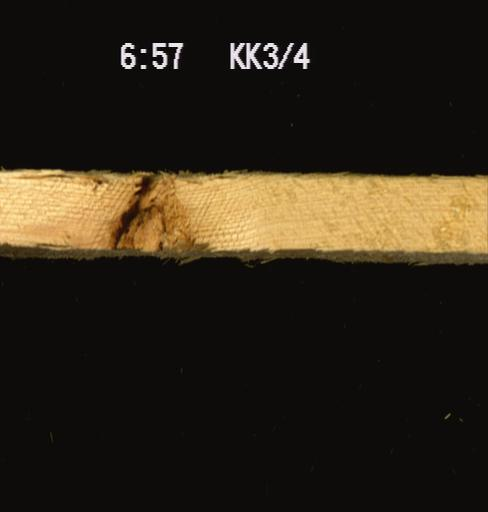edge_knot: (109, 174, 203, 254)
